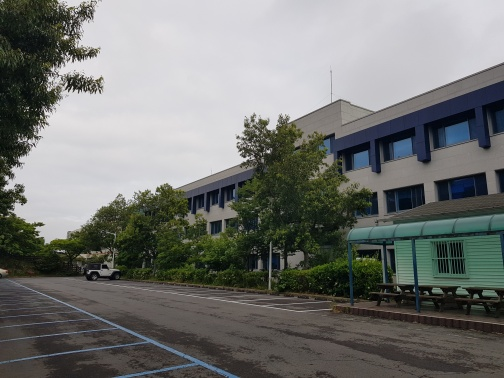College of Social Sciences: (129, 68, 503, 327), (365, 77, 492, 177)
